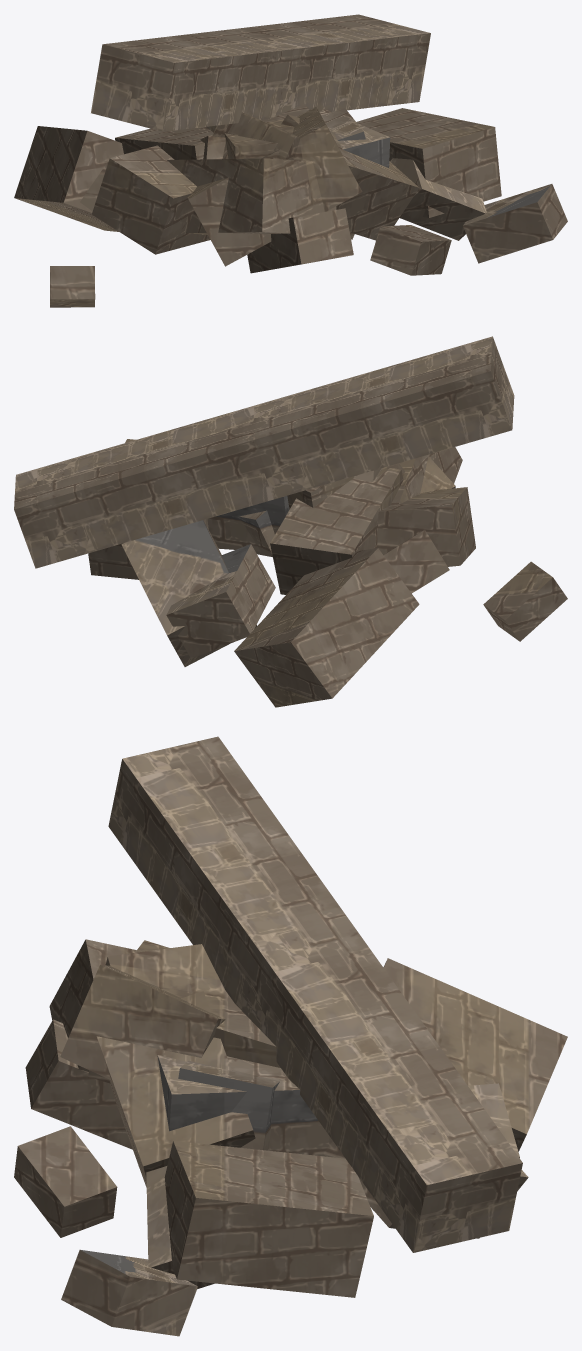
The model's file is rubble_pile.glb.
3 views of the same model, one above another, from view 1: azimuth 30°, elevation 25°; view 2: azimuth 150°, elevation 25°; view 3: azimuth 270°, elevation 25° (orthographic). The views are drawn at different scales.
Parts seen in each view (by area): view 1: rubble_pile; view 2: rubble_pile; view 3: rubble_pile.
Boxes of the visible parts, box(x1,y1,x2,y2) form: rubble_pile: box(14, 14, 567, 307); rubble_pile: box(14, 336, 567, 707); rubble_pile: box(14, 736, 567, 1336).
Bounding box in the file's own units: 2.4 × 1.38 × 1.82.
Materials: 2 (2 with a texture image).
